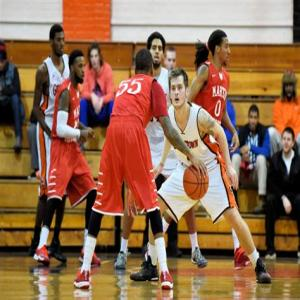Basket: (183, 164, 209, 200)
